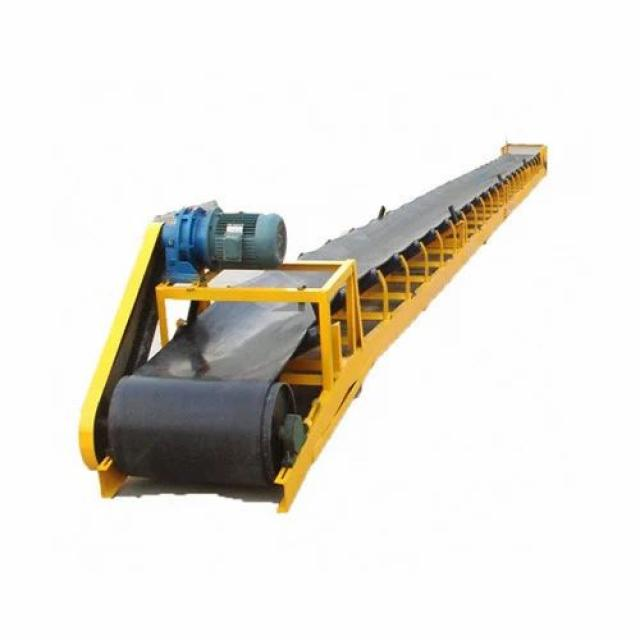conveyor: (80, 141, 573, 503)
